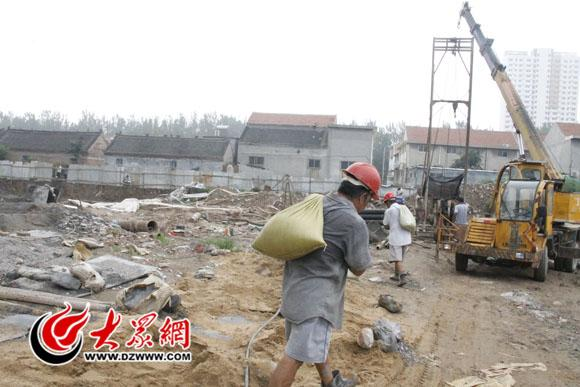helmet: (342, 160, 382, 200), (384, 192, 399, 206)
